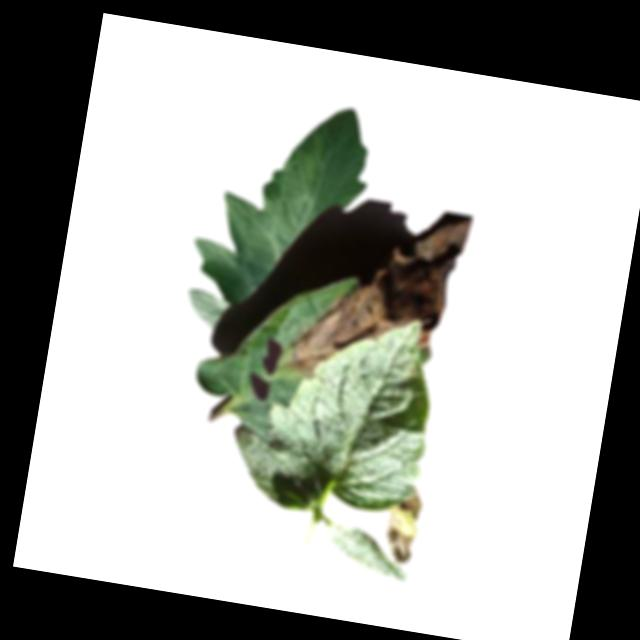Late_blight: (188, 87, 380, 321), (286, 194, 471, 395), (377, 484, 425, 563)
healthy: (256, 300, 444, 518), (223, 428, 319, 510), (317, 520, 421, 585)
